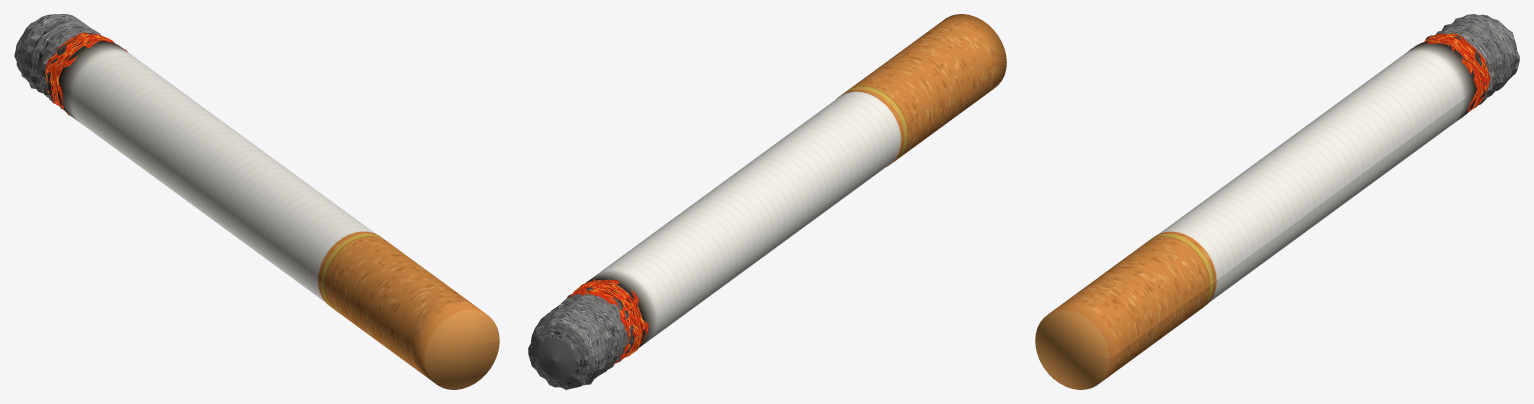
File: cigarette.glb
The picture shows the model from 3 angles, left to right: view 1: azimuth 30°, elevation 25°; view 2: azimuth 150°, elevation 25°; view 3: azimuth 330°, elevation 25°; orthographic projection.
Visible parts, largest first — view 1: CigPaper, CigFilter, AshBody, Ember; view 2: CigPaper, CigFilter, AshBody, Ember; view 3: CigPaper, CigFilter, AshBody, Ember.
Boxes of the visible parts, x1,y1,x2,y2 form: CigPaper: (57, 41, 375, 302); CigFilter: (318, 231, 499, 389); AshBody: (14, 14, 101, 109); Ember: (45, 32, 127, 115); CigPaper: (585, 91, 900, 350); CigFilter: (836, 14, 1006, 166); AshBody: (528, 287, 634, 389); Ember: (568, 279, 648, 363); CigPaper: (1159, 41, 1476, 302); CigFilter: (1035, 231, 1216, 389); AshBody: (1425, 14, 1519, 105); Ember: (1410, 33, 1490, 112).
Size of the model in its own units: 0.0147 by 0.0147 by 0.142.
4 materials, 4 textured.
